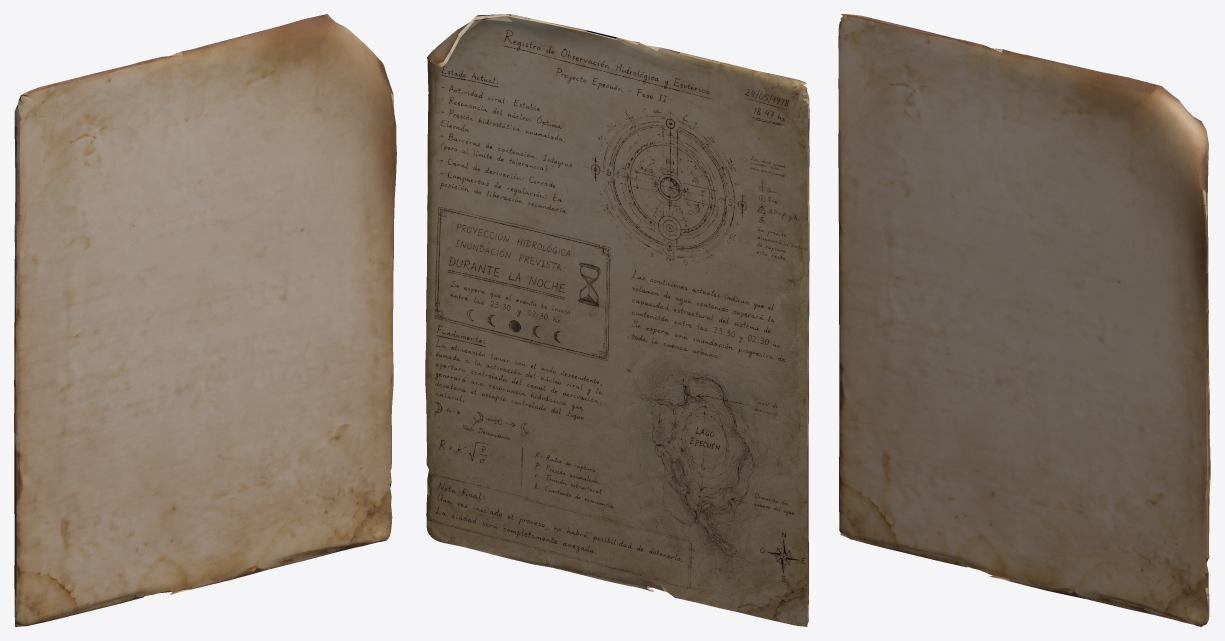
Rendered from nota hidraulica.fbx.
3 renders of one model, left to right at view 1: azimuth 30°, elevation 25°; view 2: azimuth 150°, elevation 25°; view 3: azimuth 330°, elevation 25°, orthographic. The views are drawn at different scales.
Parts seen in each view (by area): view 1: Mesh0; view 2: Mesh0; view 3: Mesh0.
Part boxes in pixels (left/top/right/bottom): Mesh0: left=14, top=14, right=396, bottom=626; Mesh0: left=425, top=14, right=809, bottom=626; Mesh0: left=838, top=14, right=1210, bottom=626.
Bounding box in the file's own units: 141 × 192 × 18.52.
Materials: 2 (2 with a texture image).
